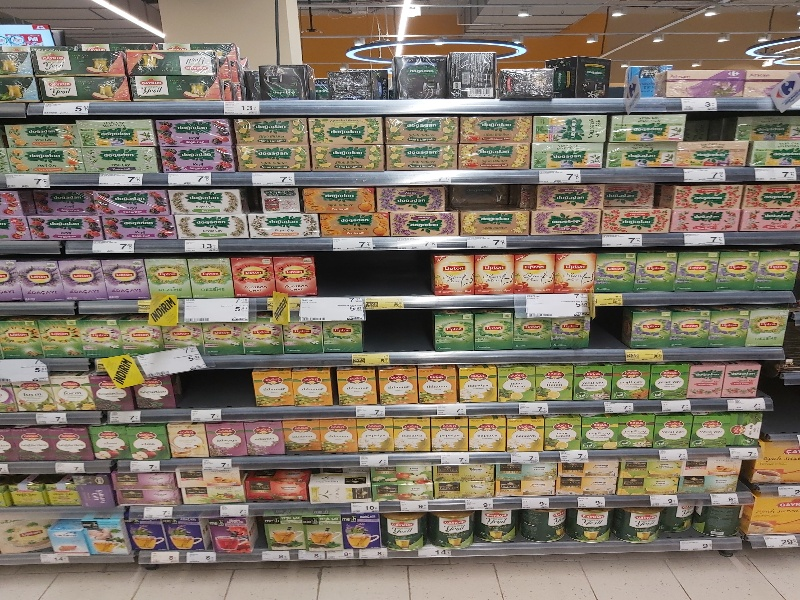urun: (33, 39, 127, 75), (129, 40, 223, 76), (388, 47, 449, 99), (437, 45, 498, 97), (6, 353, 53, 419), (49, 352, 96, 418), (35, 69, 132, 99), (133, 69, 230, 99), (156, 141, 239, 173), (562, 50, 615, 99), (77, 145, 164, 174), (91, 355, 133, 415), (132, 354, 174, 414), (2, 120, 78, 153), (76, 116, 152, 149), (23, 213, 104, 243), (156, 115, 233, 146), (231, 114, 308, 145), (306, 115, 383, 146), (382, 114, 459, 145), (458, 112, 535, 143), (532, 113, 609, 144), (610, 111, 687, 142), (97, 212, 179, 240), (498, 58, 559, 95), (673, 136, 748, 166), (531, 138, 606, 168), (456, 138, 531, 168), (205, 511, 255, 555), (1, 146, 79, 174), (671, 180, 746, 209), (387, 209, 461, 238), (300, 187, 379, 214), (238, 475, 309, 505), (385, 142, 458, 171), (308, 143, 381, 172), (237, 143, 310, 172), (533, 180, 606, 209), (530, 203, 603, 232), (600, 204, 673, 233), (248, 365, 293, 411), (289, 364, 334, 410), (333, 364, 378, 410), (374, 362, 419, 408), (413, 358, 458, 404), (453, 361, 498, 407), (622, 59, 679, 95), (257, 56, 309, 95), (92, 190, 173, 215), (15, 258, 62, 301), (175, 210, 247, 237), (673, 203, 745, 230), (262, 507, 307, 550), (298, 507, 343, 550), (338, 509, 383, 552), (381, 509, 426, 552), (431, 504, 476, 547), (477, 502, 522, 545), (516, 504, 561, 547), (574, 499, 619, 542), (621, 505, 666, 548), (104, 254, 146, 300), (147, 253, 189, 299), (190, 252, 232, 298), (228, 248, 270, 294), (271, 249, 313, 295), (432, 247, 474, 293), (473, 247, 515, 293), (515, 248, 557, 294), (551, 245, 593, 291), (596, 247, 638, 293), (637, 245, 679, 291), (317, 212, 393, 237), (375, 184, 454, 208), (62, 256, 105, 300), (237, 309, 281, 352), (278, 314, 322, 357), (323, 309, 367, 352), (429, 305, 473, 348), (470, 308, 514, 351), (677, 247, 718, 293), (716, 243, 757, 289), (754, 244, 795, 290), (614, 457, 689, 482), (612, 468, 687, 493), (456, 207, 528, 233), (199, 309, 242, 352), (510, 305, 553, 348), (547, 305, 590, 348), (631, 305, 674, 348), (669, 309, 712, 352), (709, 305, 752, 348), (746, 307, 789, 350), (8, 423, 53, 464), (48, 420, 93, 461), (654, 355, 690, 406), (689, 356, 725, 407), (726, 354, 762, 405), (21, 186, 90, 212), (169, 188, 243, 212), (605, 179, 664, 209), (246, 211, 316, 236), (40, 311, 77, 356), (79, 313, 116, 358), (430, 460, 499, 484), (431, 479, 500, 503), (489, 455, 558, 479), (492, 476, 561, 500), (1, 314, 37, 359), (496, 361, 534, 403), (536, 359, 574, 401), (572, 361, 610, 403), (611, 360, 649, 402), (368, 459, 430, 484), (368, 480, 430, 505), (120, 315, 157, 356), (164, 312, 201, 353), (90, 421, 127, 462), (131, 419, 168, 460), (170, 419, 207, 460), (206, 415, 243, 456), (247, 413, 284, 454), (281, 413, 318, 454), (317, 412, 354, 453), (358, 410, 395, 451), (394, 409, 431, 450), (432, 411, 469, 452), (470, 409, 507, 450), (508, 409, 545, 450), (541, 407, 578, 448), (580, 408, 617, 449), (618, 409, 655, 450), (654, 408, 691, 449), (687, 406, 724, 447), (722, 408, 759, 449), (47, 513, 84, 554), (84, 510, 121, 551), (127, 514, 164, 555), (168, 512, 205, 553), (740, 183, 800, 208), (738, 204, 798, 229), (556, 459, 623, 481), (555, 470, 617, 493), (729, 116, 800, 136), (84, 469, 115, 511), (259, 190, 303, 215)
